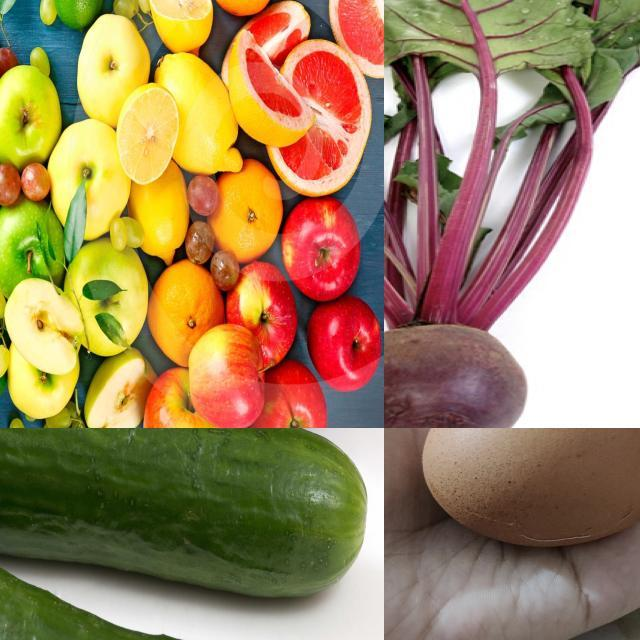beet: (385, 317, 532, 429)
cucumber: (1, 429, 369, 601), (1, 507, 318, 640)
egg: (422, 429, 640, 553)
